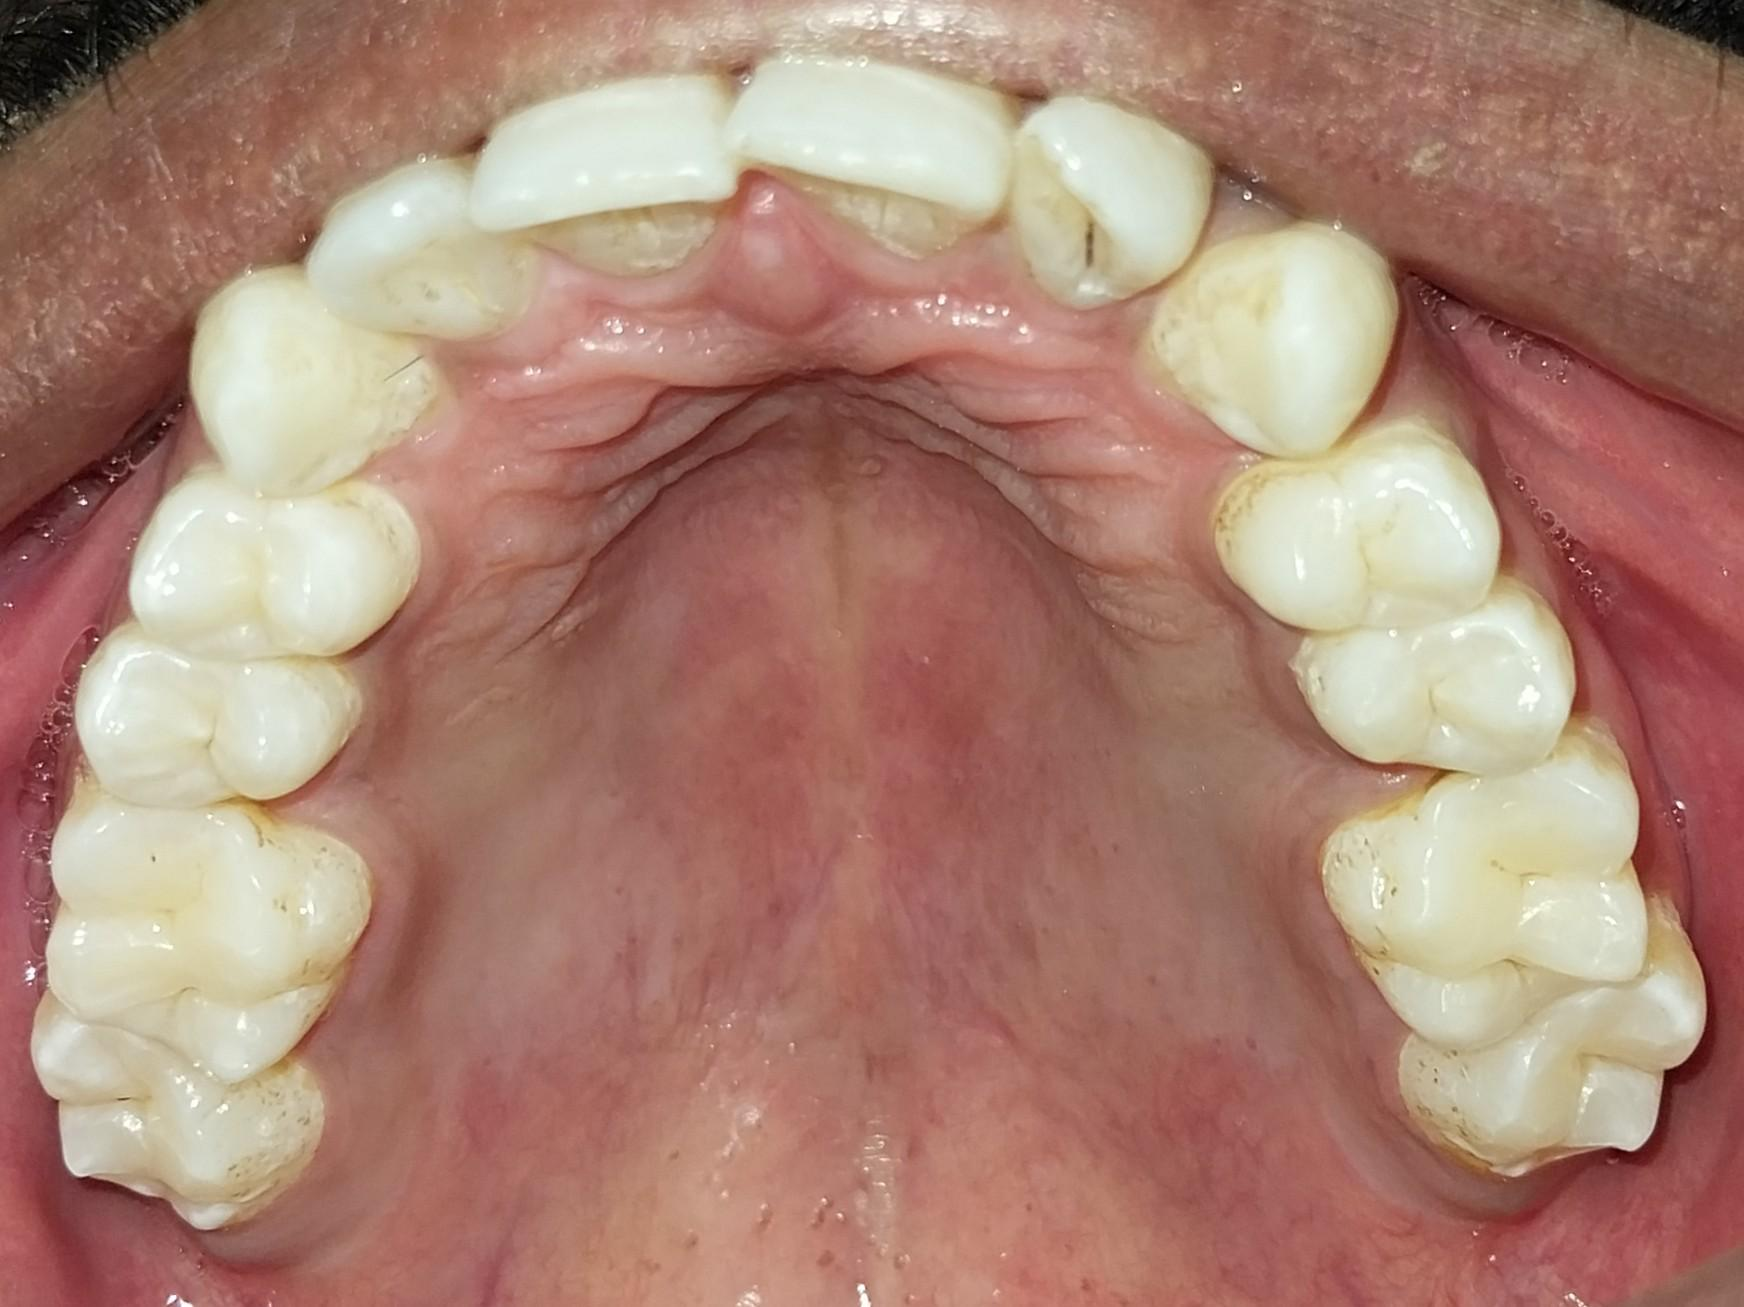D: (1018, 96, 1214, 315)
